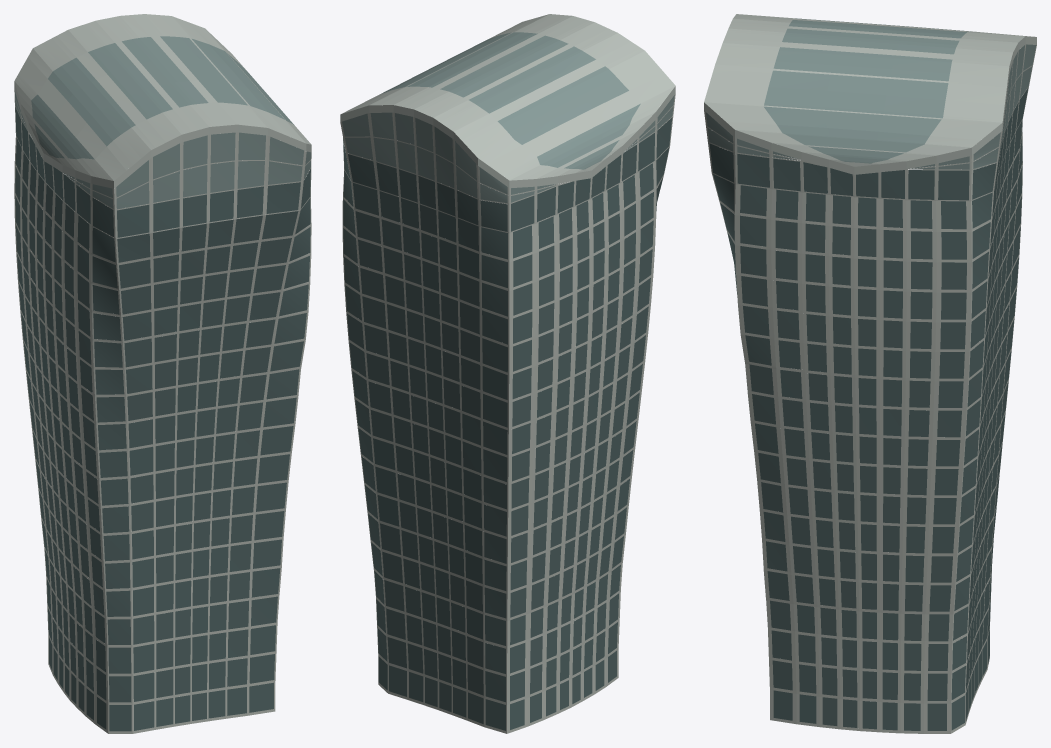
Rendered from 20-fenchurch-street-far.glb.
3 views of the same model, side by side, from view 1: azimuth 30°, elevation 25°; view 2: azimuth 150°, elevation 25°; view 3: azimuth 270°, elevation 25° (orthographic). The views are drawn at different scales.
Visible parts, largest first — view 1: 20-fenchurch-street-0-glass, 20-fenchurch-street-0-frame, 20-fenchurch-street-0-roofglass, 20-fenchurch-street-0-roofFrame; view 2: 20-fenchurch-street-0-glass, 20-fenchurch-street-0-frame, 20-fenchurch-street-0-roofglass, 20-fenchurch-street-0-roofFrame; view 3: 20-fenchurch-street-0-glass, 20-fenchurch-street-0-frame, 20-fenchurch-street-0-roofglass, 20-fenchurch-street-0-roofFrame.
Boxes of the visible parts, bbox=[...] form: 20-fenchurch-street-0-glass: bbox=[15, 107, 310, 731]; 20-fenchurch-street-0-frame: bbox=[14, 89, 311, 733]; 20-fenchurch-street-0-roofglass: bbox=[14, 36, 311, 209]; 20-fenchurch-street-0-roofFrame: bbox=[14, 14, 311, 188]; 20-fenchurch-street-0-glass: bbox=[343, 117, 672, 730]; 20-fenchurch-street-0-frame: bbox=[340, 94, 675, 733]; 20-fenchurch-street-0-roofglass: bbox=[342, 32, 674, 203]; 20-fenchurch-street-0-roofFrame: bbox=[340, 14, 675, 188]; 20-fenchurch-street-0-glass: bbox=[709, 88, 1028, 730]; 20-fenchurch-street-0-frame: bbox=[704, 44, 1036, 733]; 20-fenchurch-street-0-roofglass: bbox=[706, 18, 1036, 169]; 20-fenchurch-street-0-roofFrame: bbox=[704, 14, 1036, 174].
Size of the model in its own units: 61.96 by 160 by 74.57.
